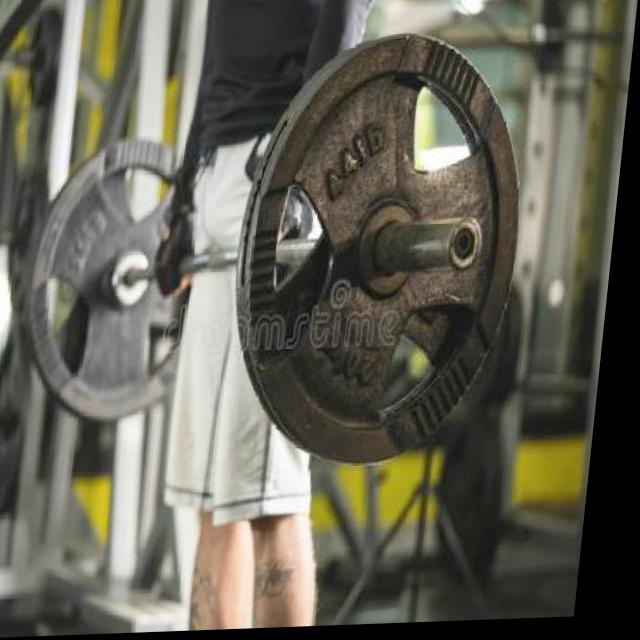barbell: (231, 30, 546, 471)
